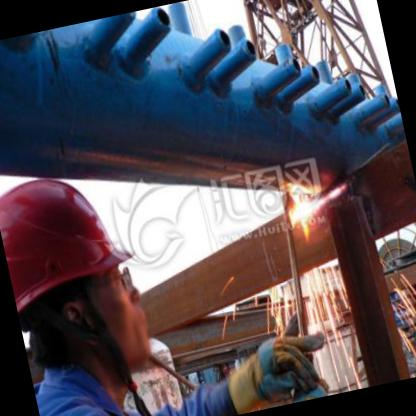helmet: (1, 123, 181, 411)
